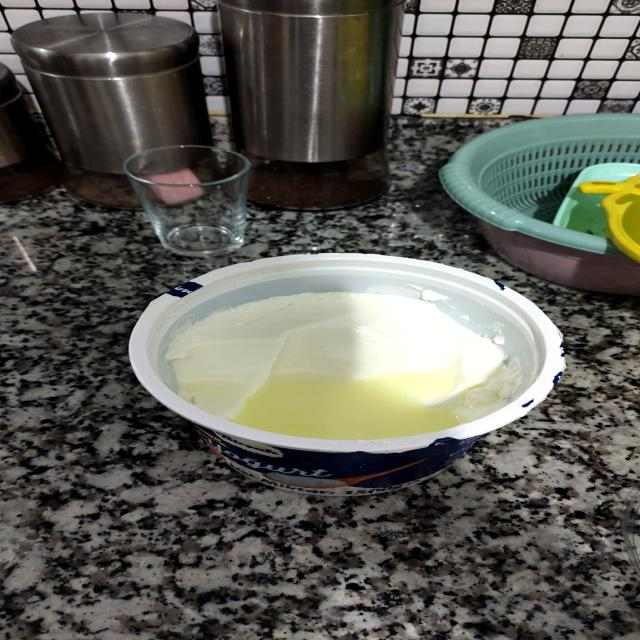yogurt: (140, 254, 572, 496)
